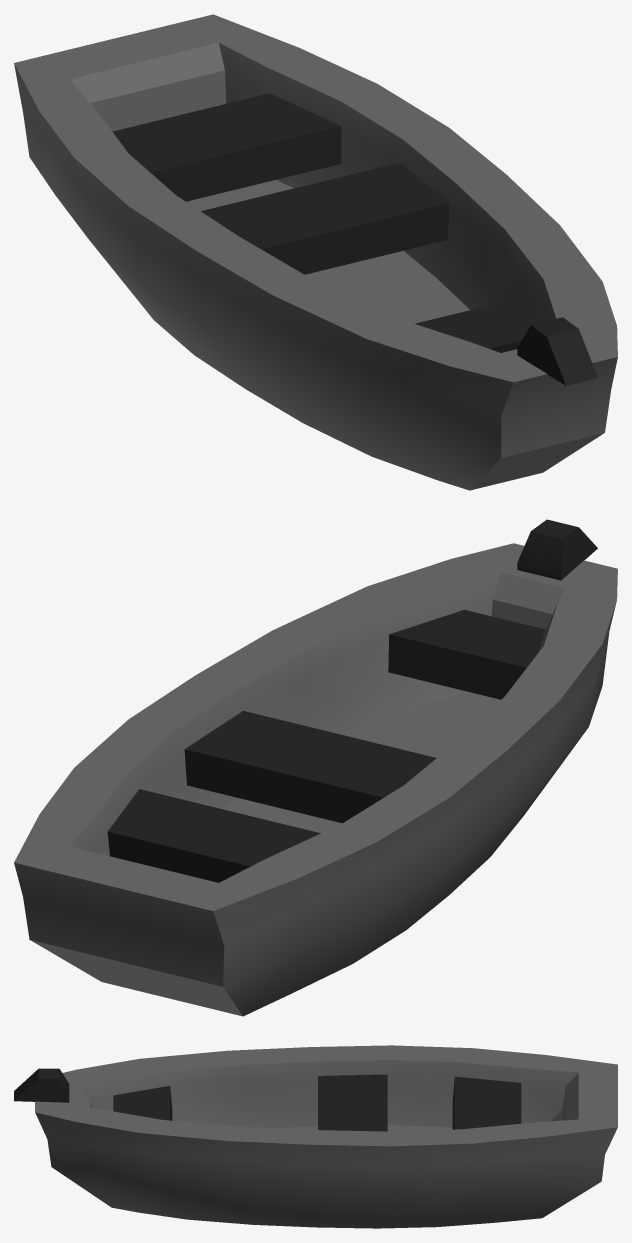
Rendered from boat_001.glb.
3 views of the same model, one above another, from view 1: azimuth 30°, elevation 25°; view 2: azimuth 150°, elevation 25°; view 3: azimuth 270°, elevation 25° (orthographic). The views are drawn at different scales.
Visible parts, largest first — view 1: boat.001; view 2: boat.001; view 3: boat.001.
Boxes of the visible parts, <box> form: boat.001: <box>14,14,617,490</box>; boat.001: <box>14,519,617,1016</box>; boat.001: <box>14,1045,617,1228</box>.
Size of the model in its own units: 2.49 by 1.42 by 6.31.
Materials: 1 (1 with a texture image).
